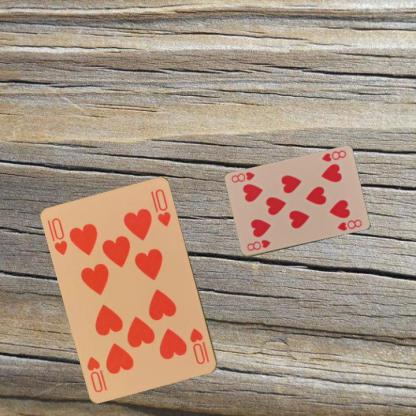10h: (49, 215, 69, 256), (187, 326, 207, 366)
8h: (318, 148, 348, 163), (244, 237, 272, 252)
